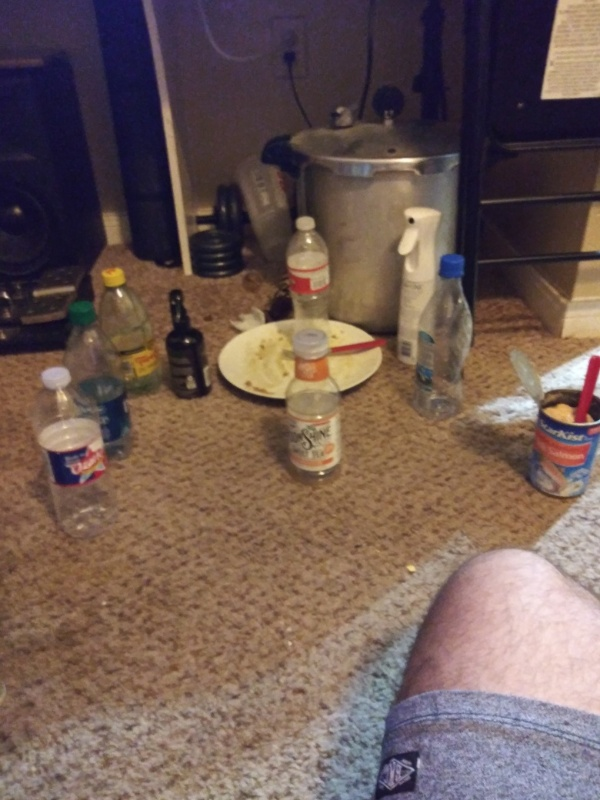bottle: (27, 365, 120, 539), (60, 299, 137, 460), (280, 323, 343, 487), (411, 253, 472, 420), (101, 263, 171, 394), (282, 211, 340, 325)
